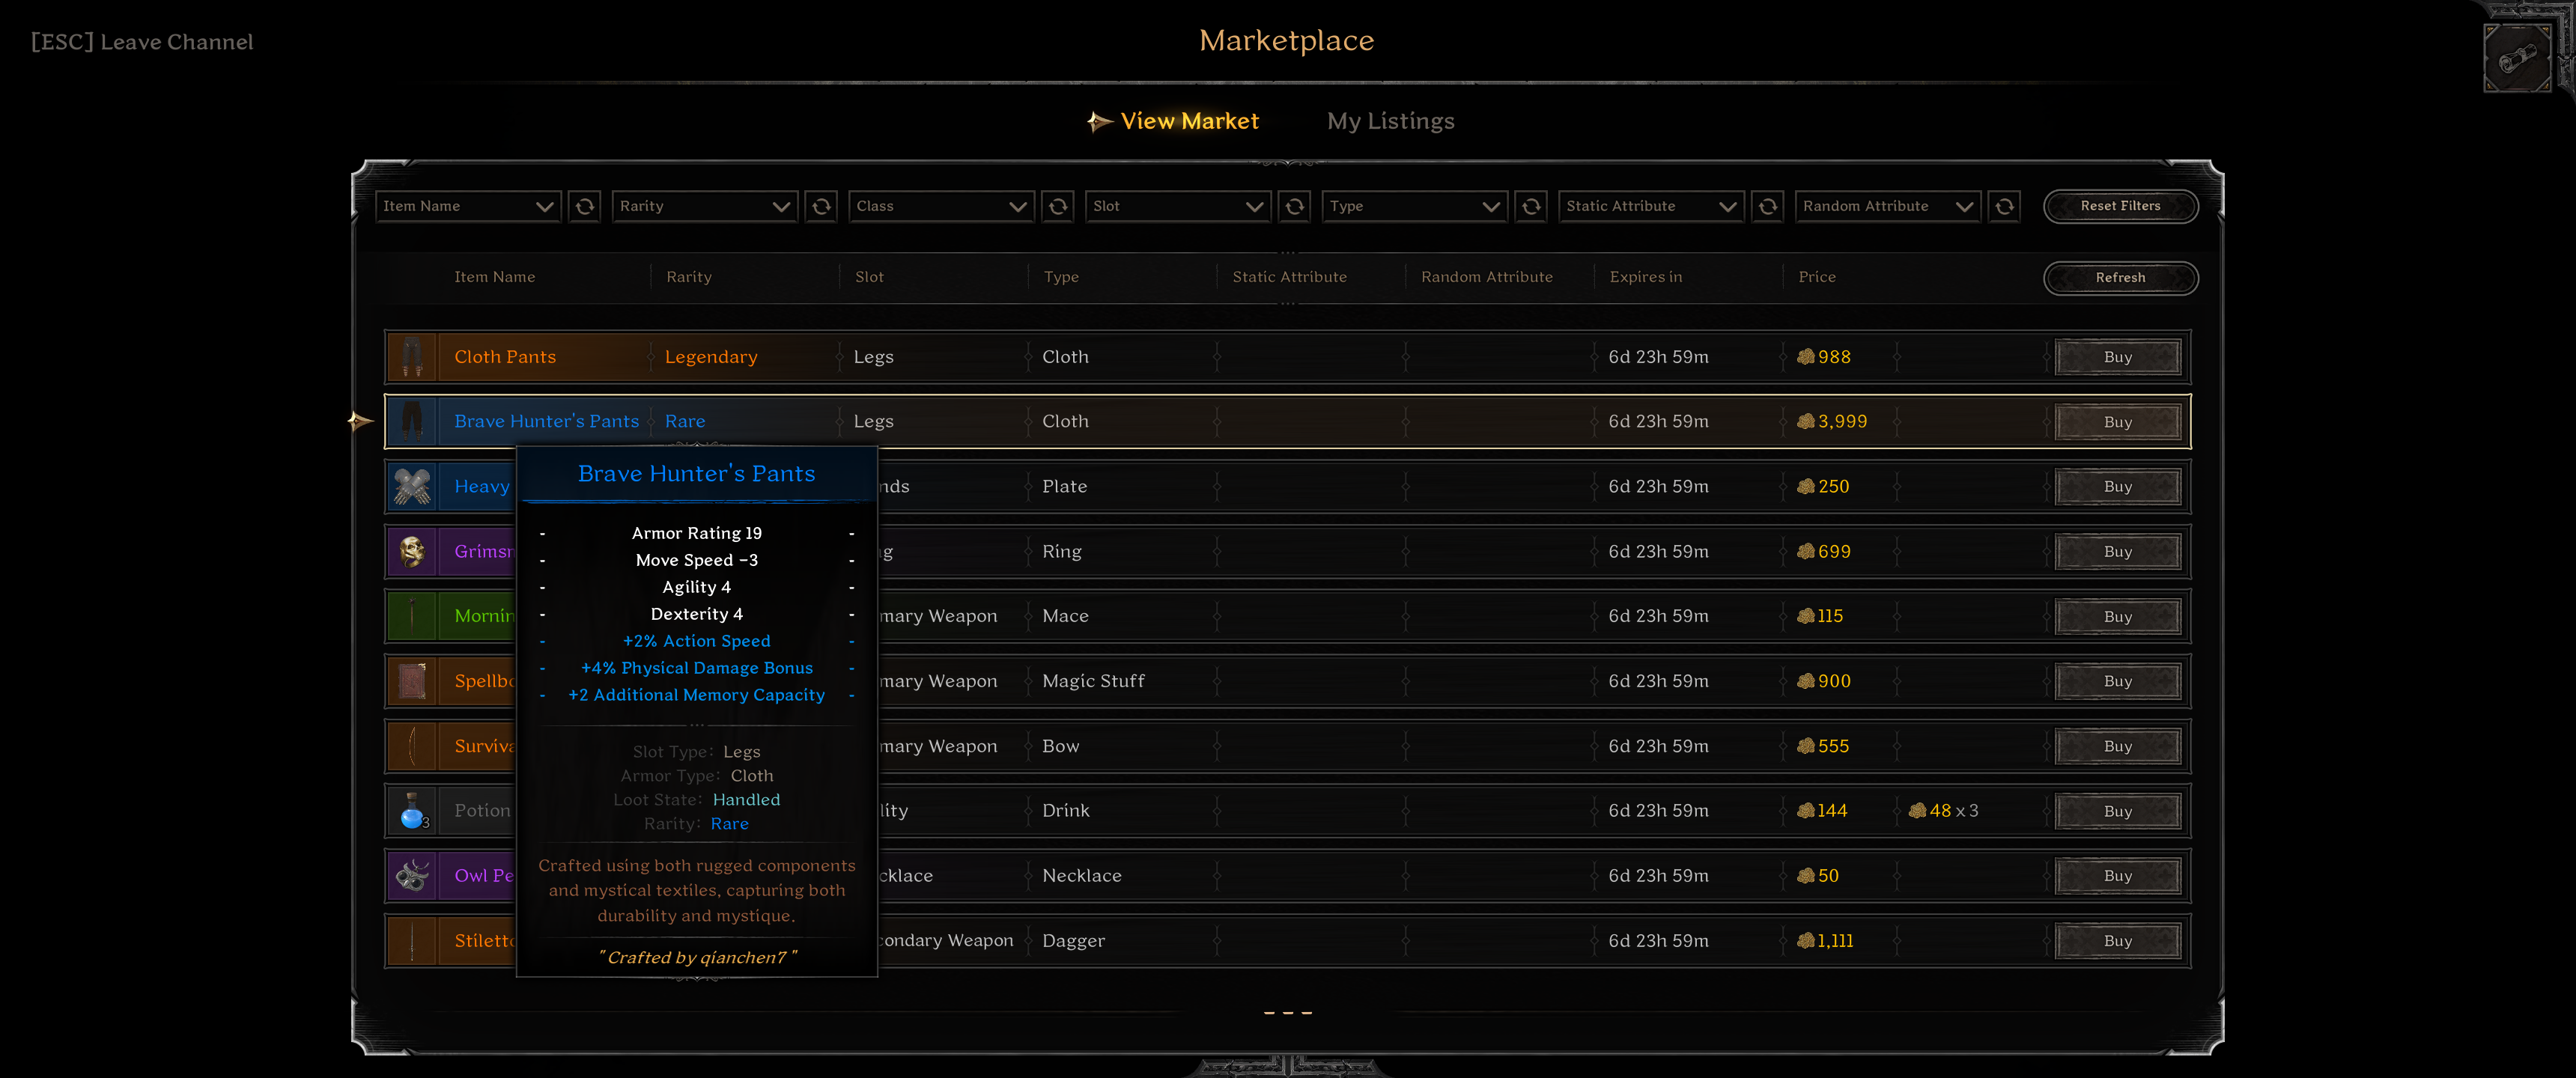Tooltip: (514, 444, 881, 979)
